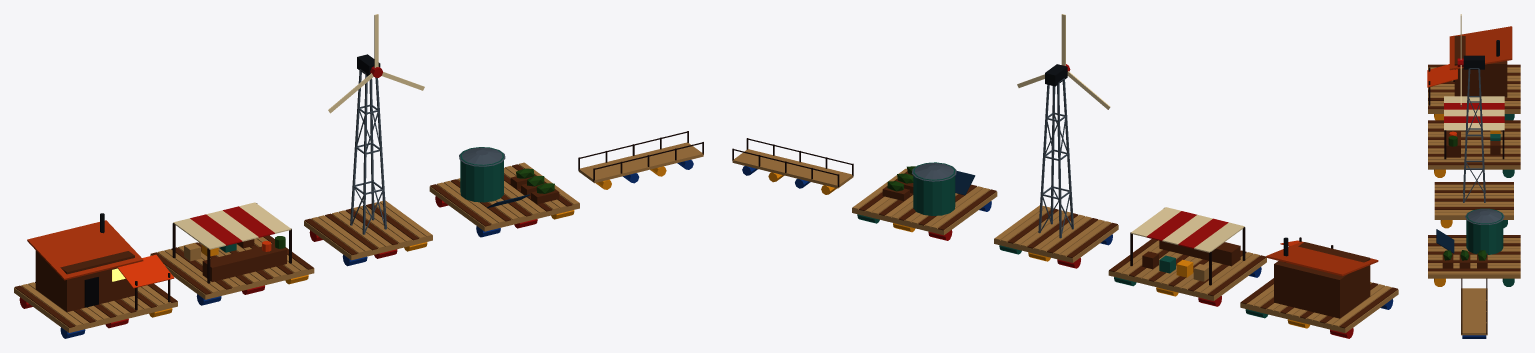
File: tb_settlement_kit.glb
The picture shows the model from 3 angles, left to right: view 1: azimuth 30°, elevation 25°; view 2: azimuth 150°, elevation 25°; view 3: azimuth 270°, elevation 25°; orthographic projection. The views are drawn at different scales.
Parts seen in each view (by area): view 1: mod_shack, mod_market, mod_water, mod_turbine, mod_walkway, mod_turbine_rotor; view 2: mod_market, mod_shack, mod_turbine, mod_water, mod_walkway, mod_turbine_rotor; view 3: mod_market, mod_shack, mod_water, mod_turbine, mod_walkway, mod_turbine_rotor.
Part boxes in pixels (box(x1,y1,x2,y2)): mod_shack: box(14, 213, 177, 338); mod_market: box(150, 202, 314, 305); mod_water: box(429, 147, 579, 237); mod_turbine: box(304, 54, 432, 266); mod_walkway: box(578, 131, 703, 189); mod_turbine_rotor: box(328, 14, 424, 113); mod_market: box(1108, 207, 1266, 306); mod_shack: box(1240, 237, 1398, 338); mod_turbine: box(994, 64, 1118, 268); mod_water: box(852, 162, 997, 240); mod_walkway: box(732, 138, 853, 194); mod_turbine_rotor: box(1017, 14, 1110, 109); mod_market: box(1428, 96, 1520, 177); mod_shack: box(1427, 26, 1520, 120); mod_water: box(1428, 208, 1520, 286); mod_turbine: box(1434, 55, 1513, 228); mod_walkway: box(1461, 278, 1487, 338); mod_turbine_rotor: box(1457, 14, 1463, 106).
Size of the model in its own units: 48.04 by 16.48 by 7.06.
